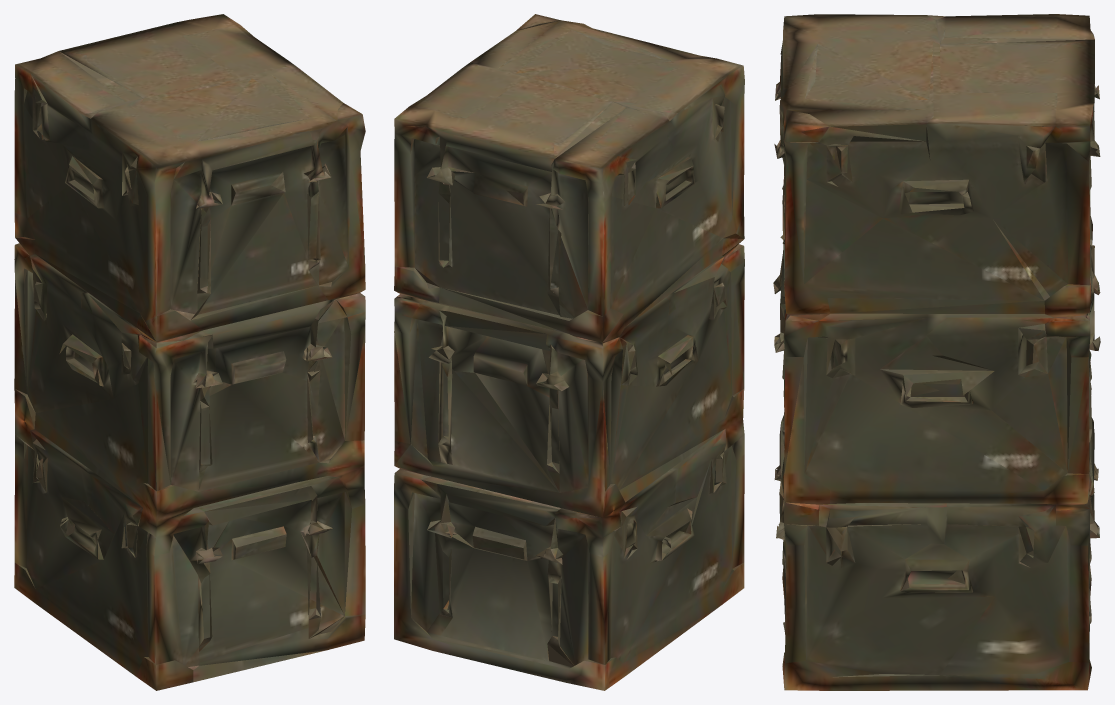
The model's file is ammo-crate-stack.glb.
The picture shows the model from 3 angles, left to right: view 1: azimuth 30°, elevation 25°; view 2: azimuth 150°, elevation 25°; view 3: azimuth 270°, elevation 25°; orthographic projection. The views are drawn at different scales.
Visible parts, largest first — view 1: Mesh_0; view 2: Mesh_0; view 3: Mesh_0.
Part boxes in pixels (x1,y1,x2,y2): Mesh_0: (14, 14, 365, 690); Mesh_0: (394, 14, 744, 690); Mesh_0: (773, 14, 1100, 690).
Size of the model in its own units: 0.5312 by 1.15 by 0.5983.
Materials: 1 (1 with a texture image).
